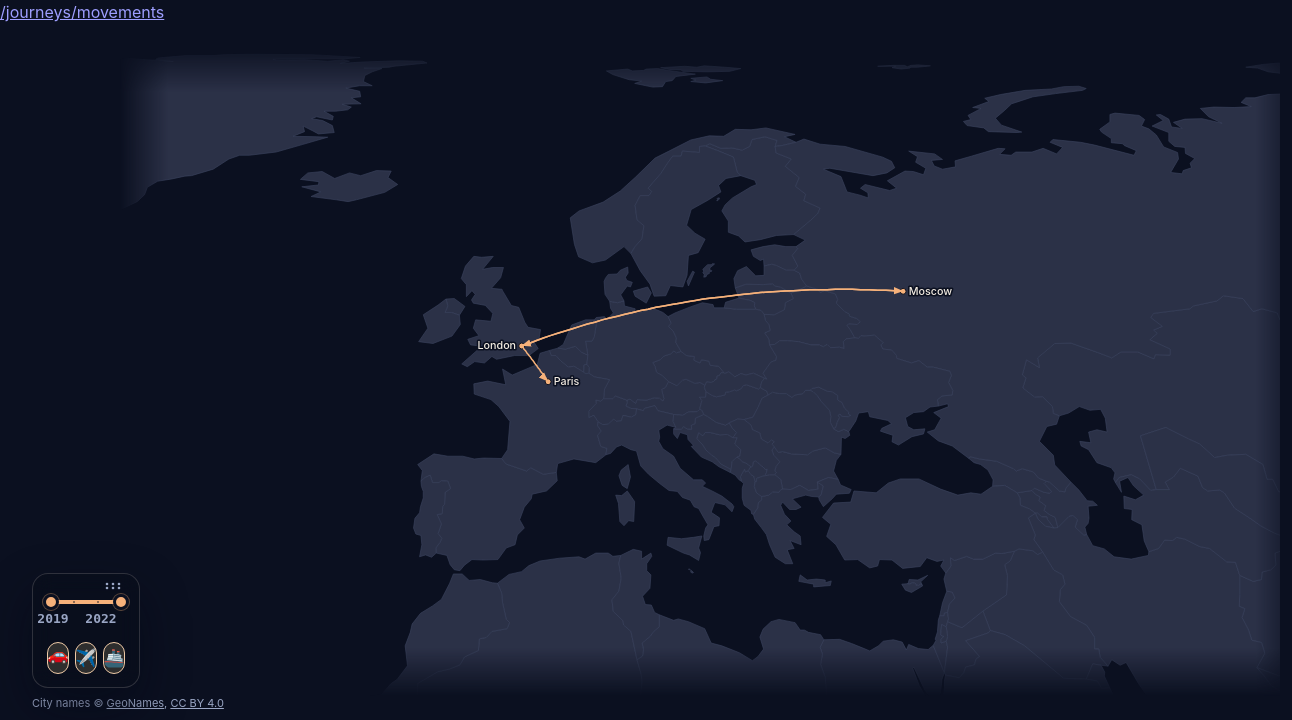
MovementsMapView › вписанный год переставляет ручку, а год за пределами встаёт на границу
The width and height of the screenshot is (1292, 720).
Click the button named "From year" at (53, 618), box [34, 610, 72, 627]
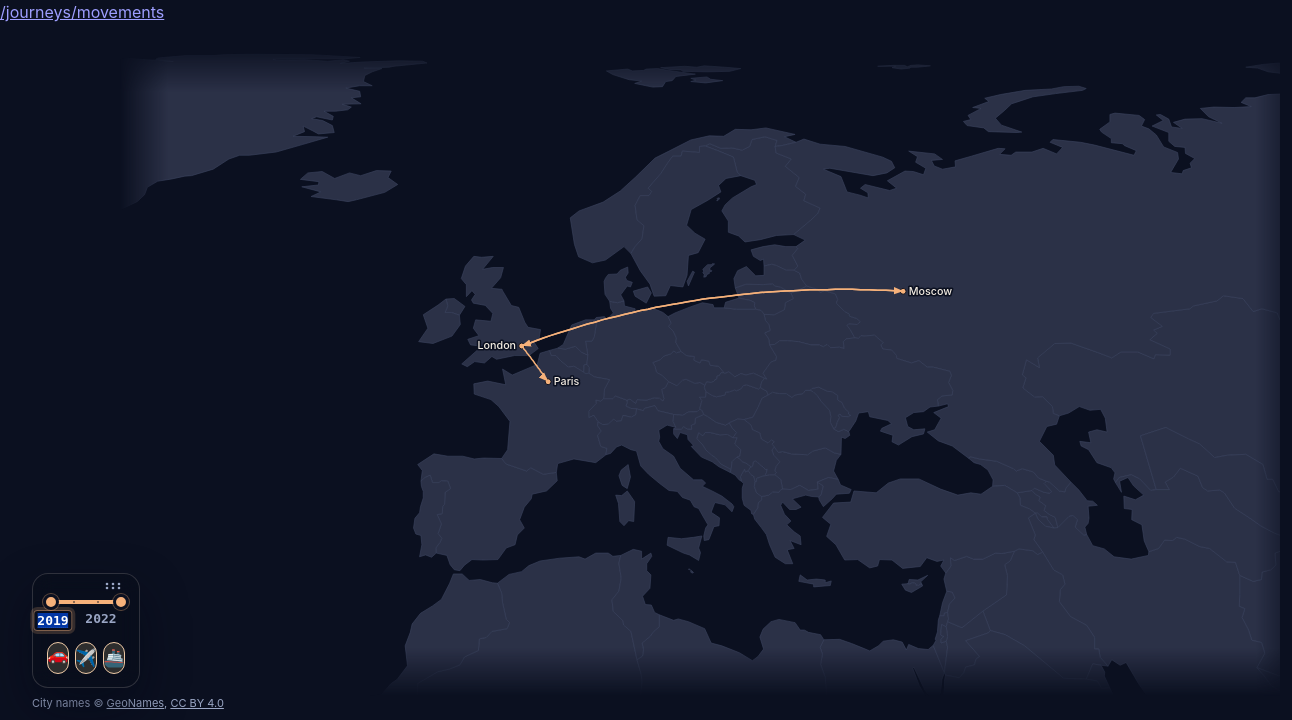
Replace the text in the field named "From year" with "2021" at (53, 620), box [33, 610, 73, 631]
Then press Enter
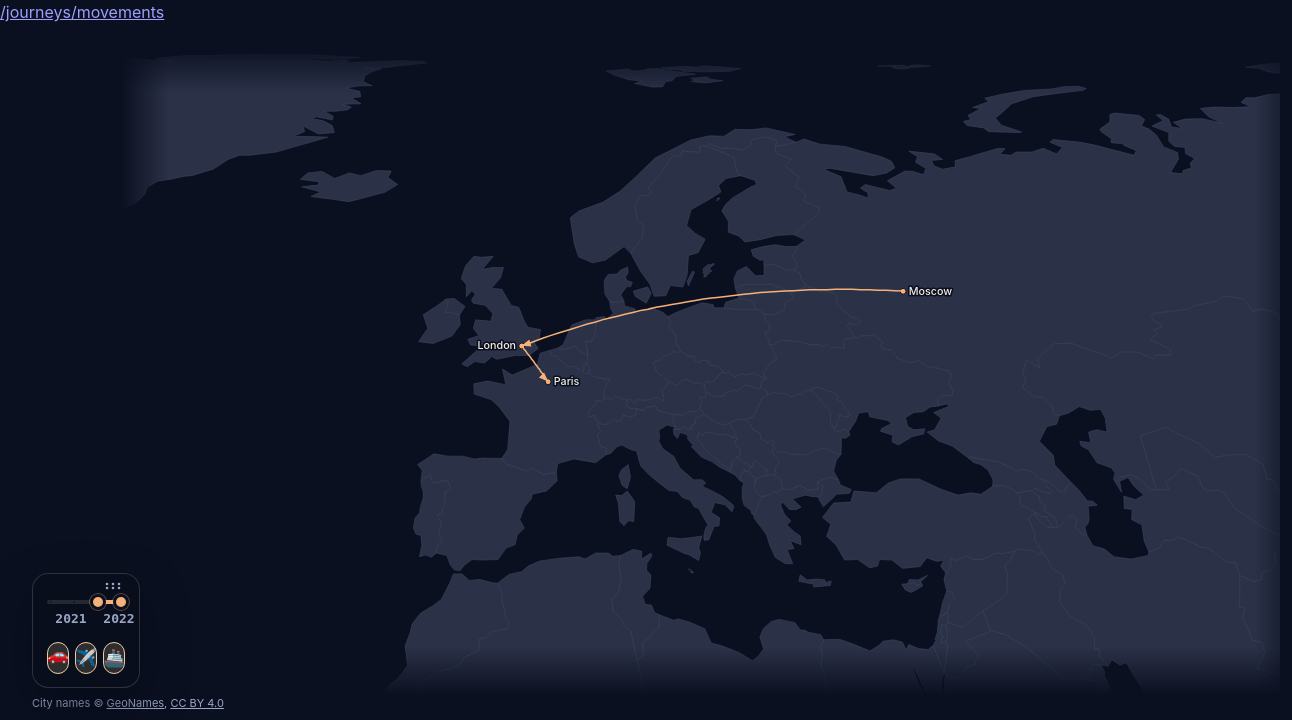
Expected: the button named "From year" reads "2021"
Click the button named "From year" at (71, 618), box [52, 610, 90, 627]
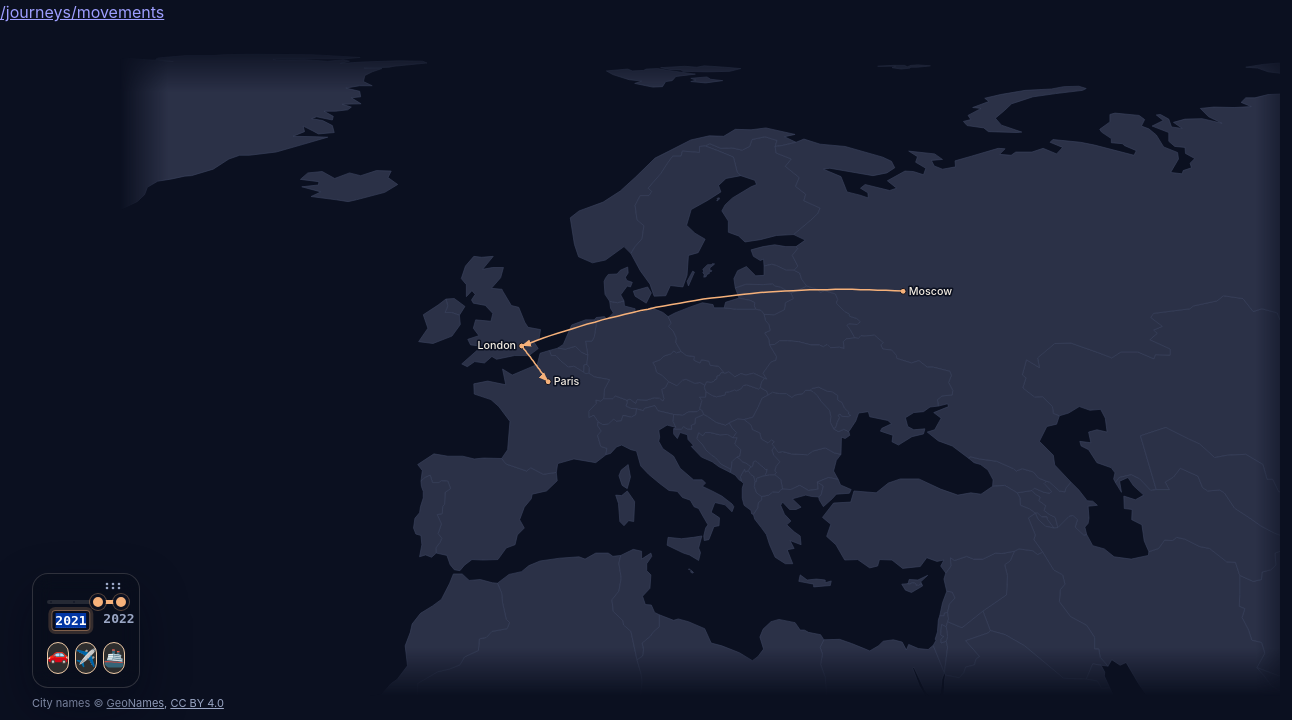
Replace the text in the field named "From year" with "200" at (71, 620), box [51, 610, 91, 631]
Then press Enter
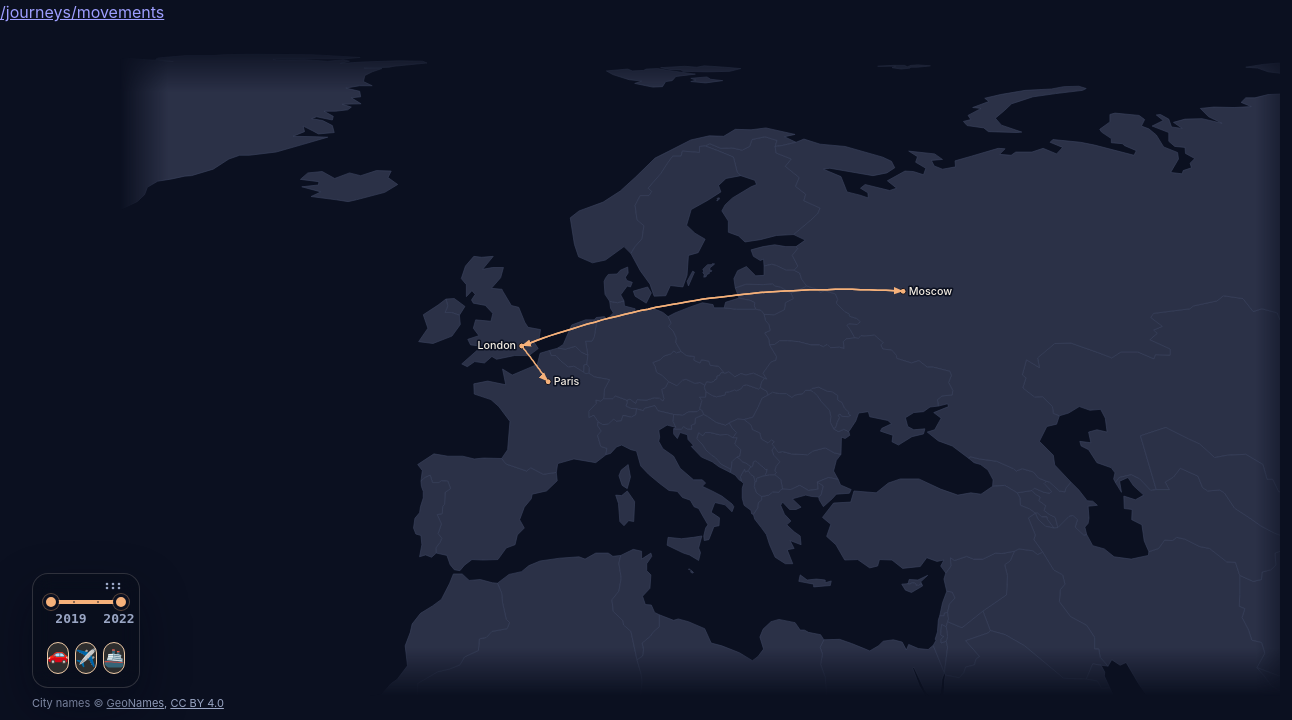
Expected: the button named "From year" reads "2019", [52, 610, 90, 627]
